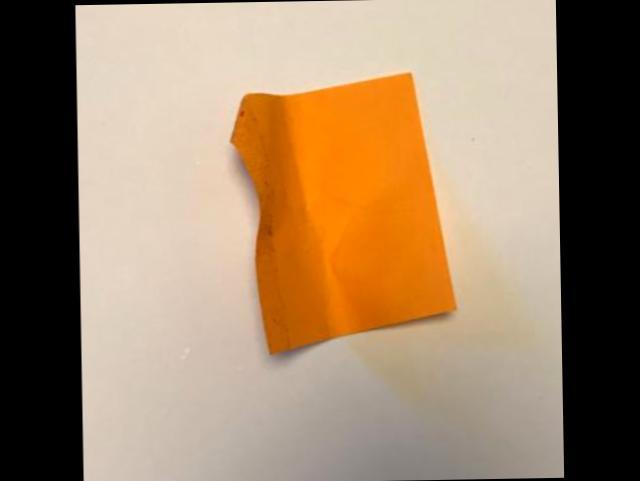cardboard paper: (230, 70, 452, 348)
